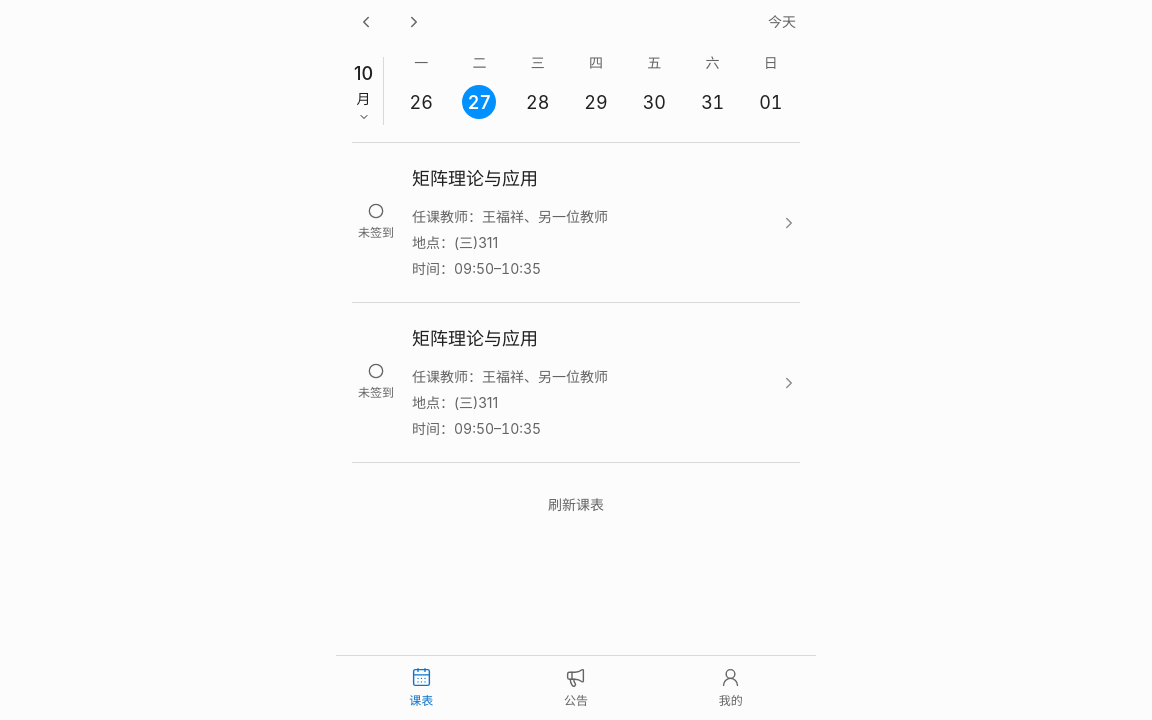
mobile routes and course interactions › reuses authorization across dates and course details
Click the button named "2026-10-28 星期三" at (538, 86), box [509, 46, 567, 126]
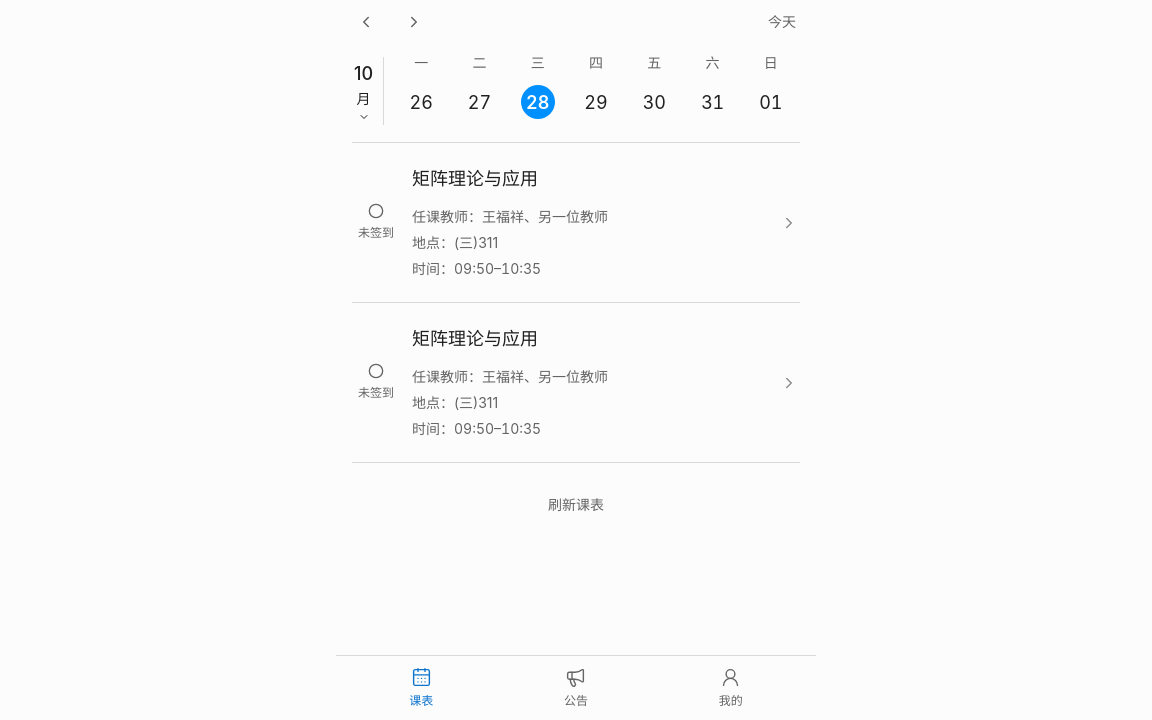
Click the 1st button "未签到 矩阵理论与应用 任课教师：王福祥、另一位教师 地点：(三)311 时间：09:50–10:35" at (576, 223), box [352, 143, 800, 302]
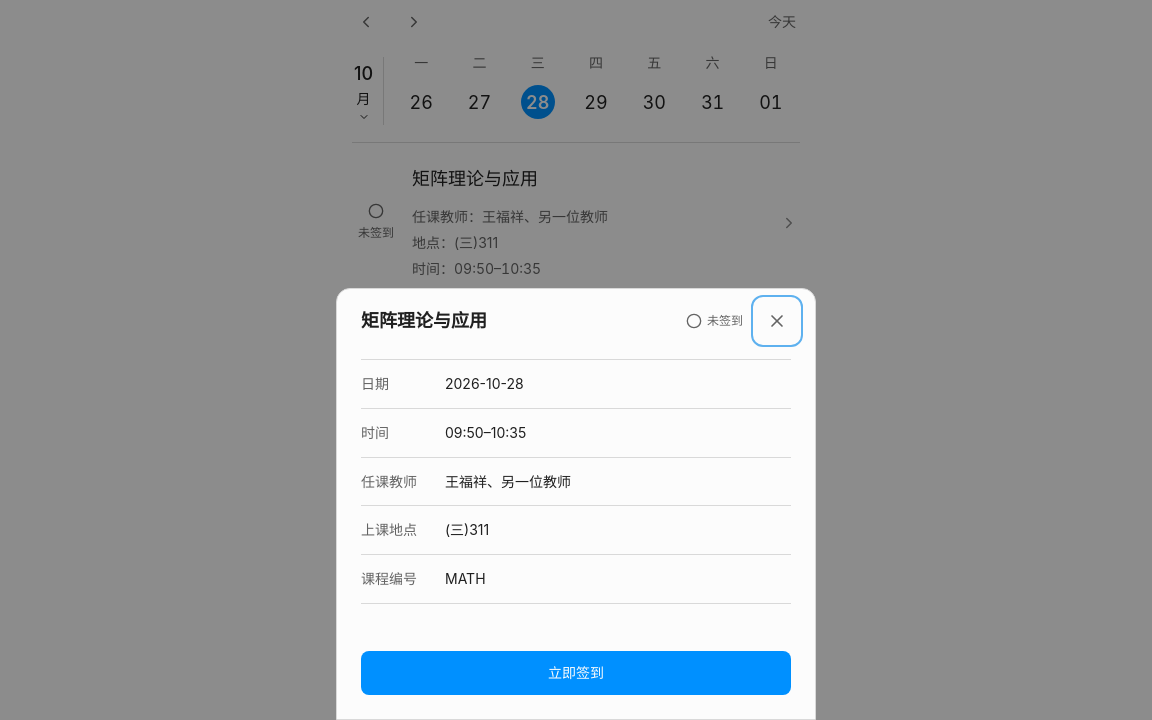
expect the button "立即签到" is enabled: met, box [361, 651, 791, 695]
